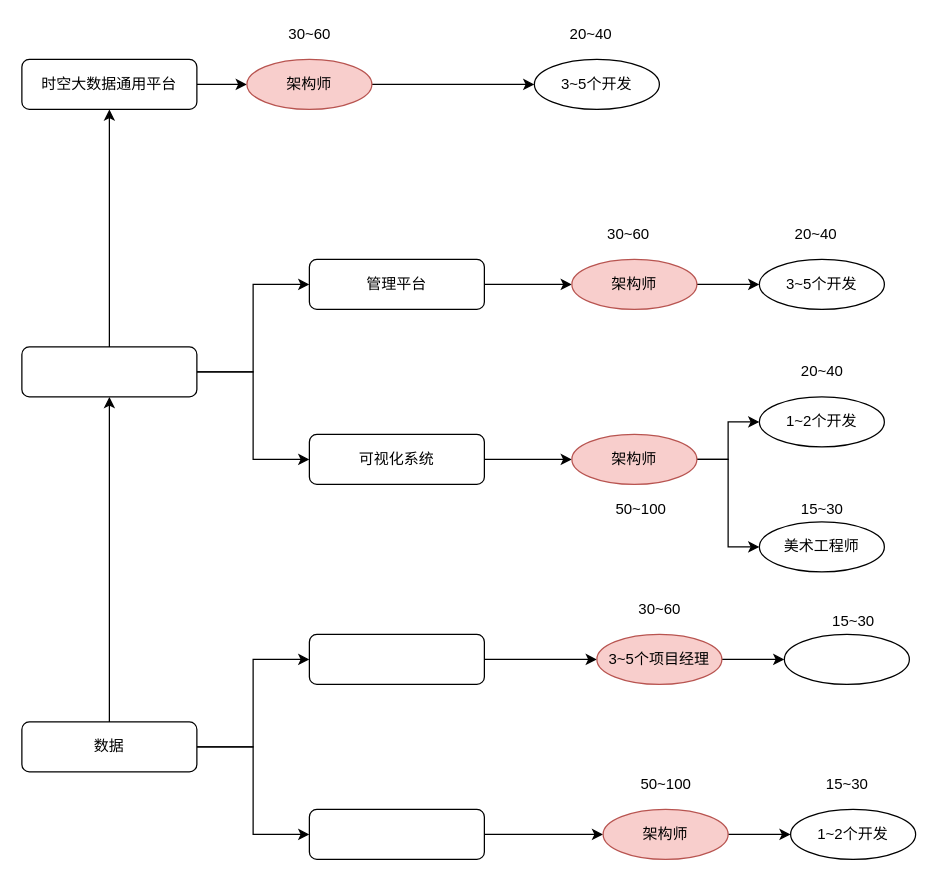
Some shapes in this 938 by 881 pixel diagram are drawn without their labels. The shapes that lost their labels are listed below. From the top down, each one's box as (x1, y1, x2, y2) in pixels, then its label:
(21, 346, 197, 397): 专项应用系统
(308, 633, 484, 684): BIM工程咨询
(783, 633, 909, 684): BIM工程师
(308, 808, 484, 859): BIM开发
